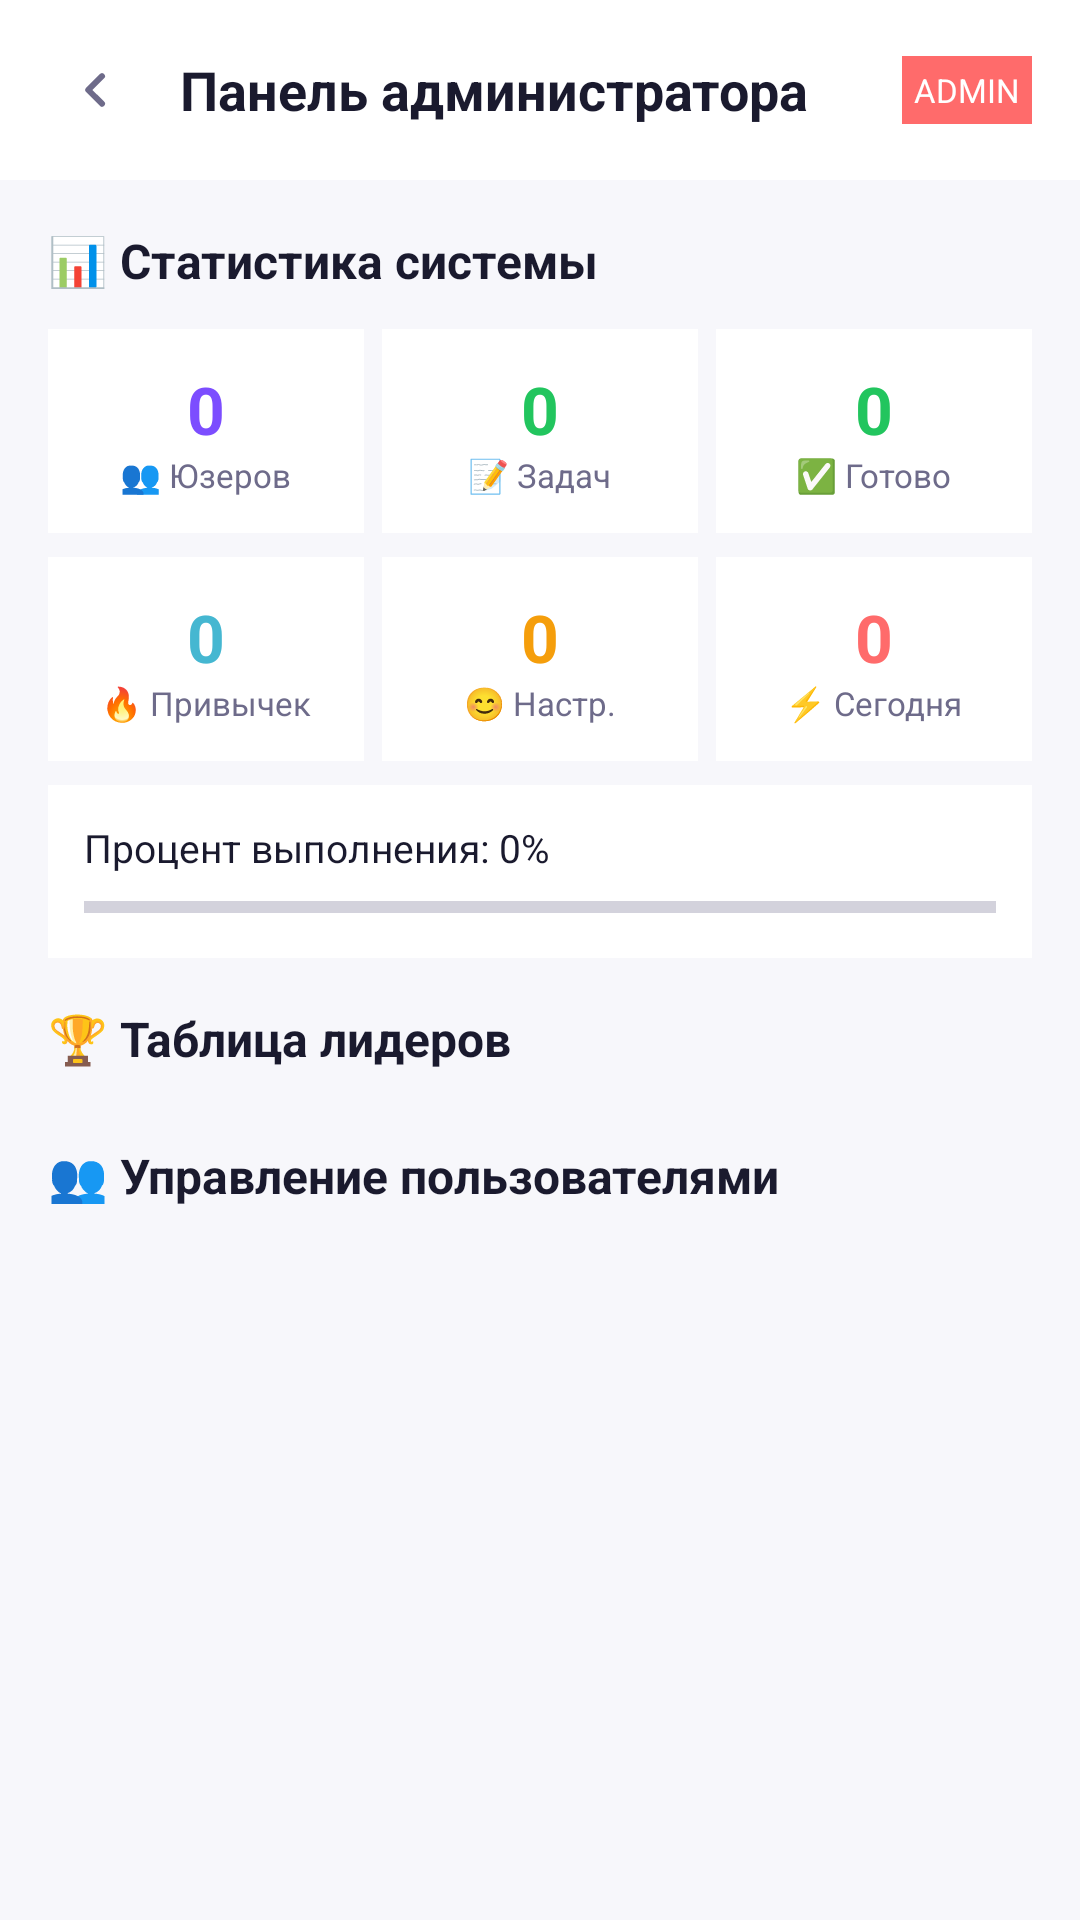

Icons on this 1080 × 1920 Android screen, each with the point to tap as (x=x, y=y):
back: (x=95, y=90)
